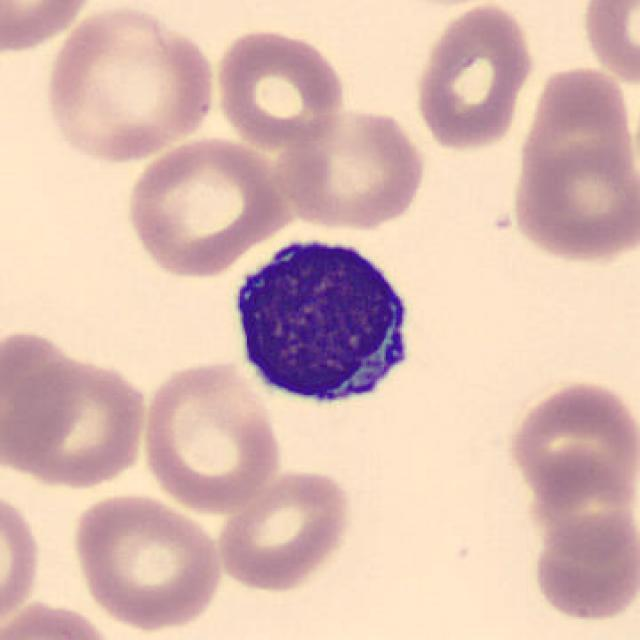Lymphocyte: (219, 220, 427, 425)
RBC: (39, 2, 222, 167), (121, 136, 295, 279), (139, 356, 285, 517), (68, 490, 228, 633), (409, 2, 537, 157), (279, 104, 429, 233), (5, 360, 153, 488), (210, 23, 350, 152), (212, 468, 356, 593), (507, 376, 638, 512), (509, 140, 639, 267), (528, 513, 640, 626), (0, 0, 105, 56), (578, 2, 640, 88), (0, 596, 117, 640)
